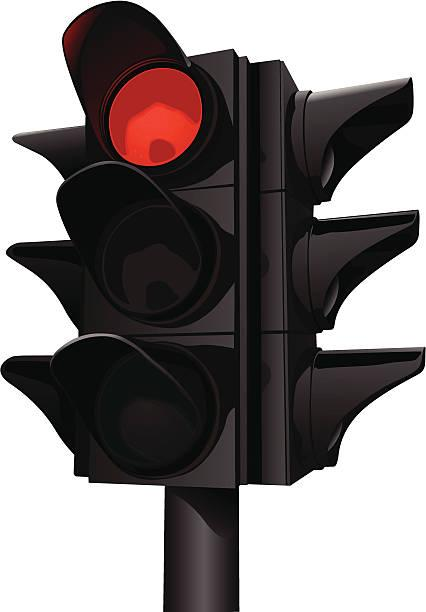red: (48, 0, 260, 467)
